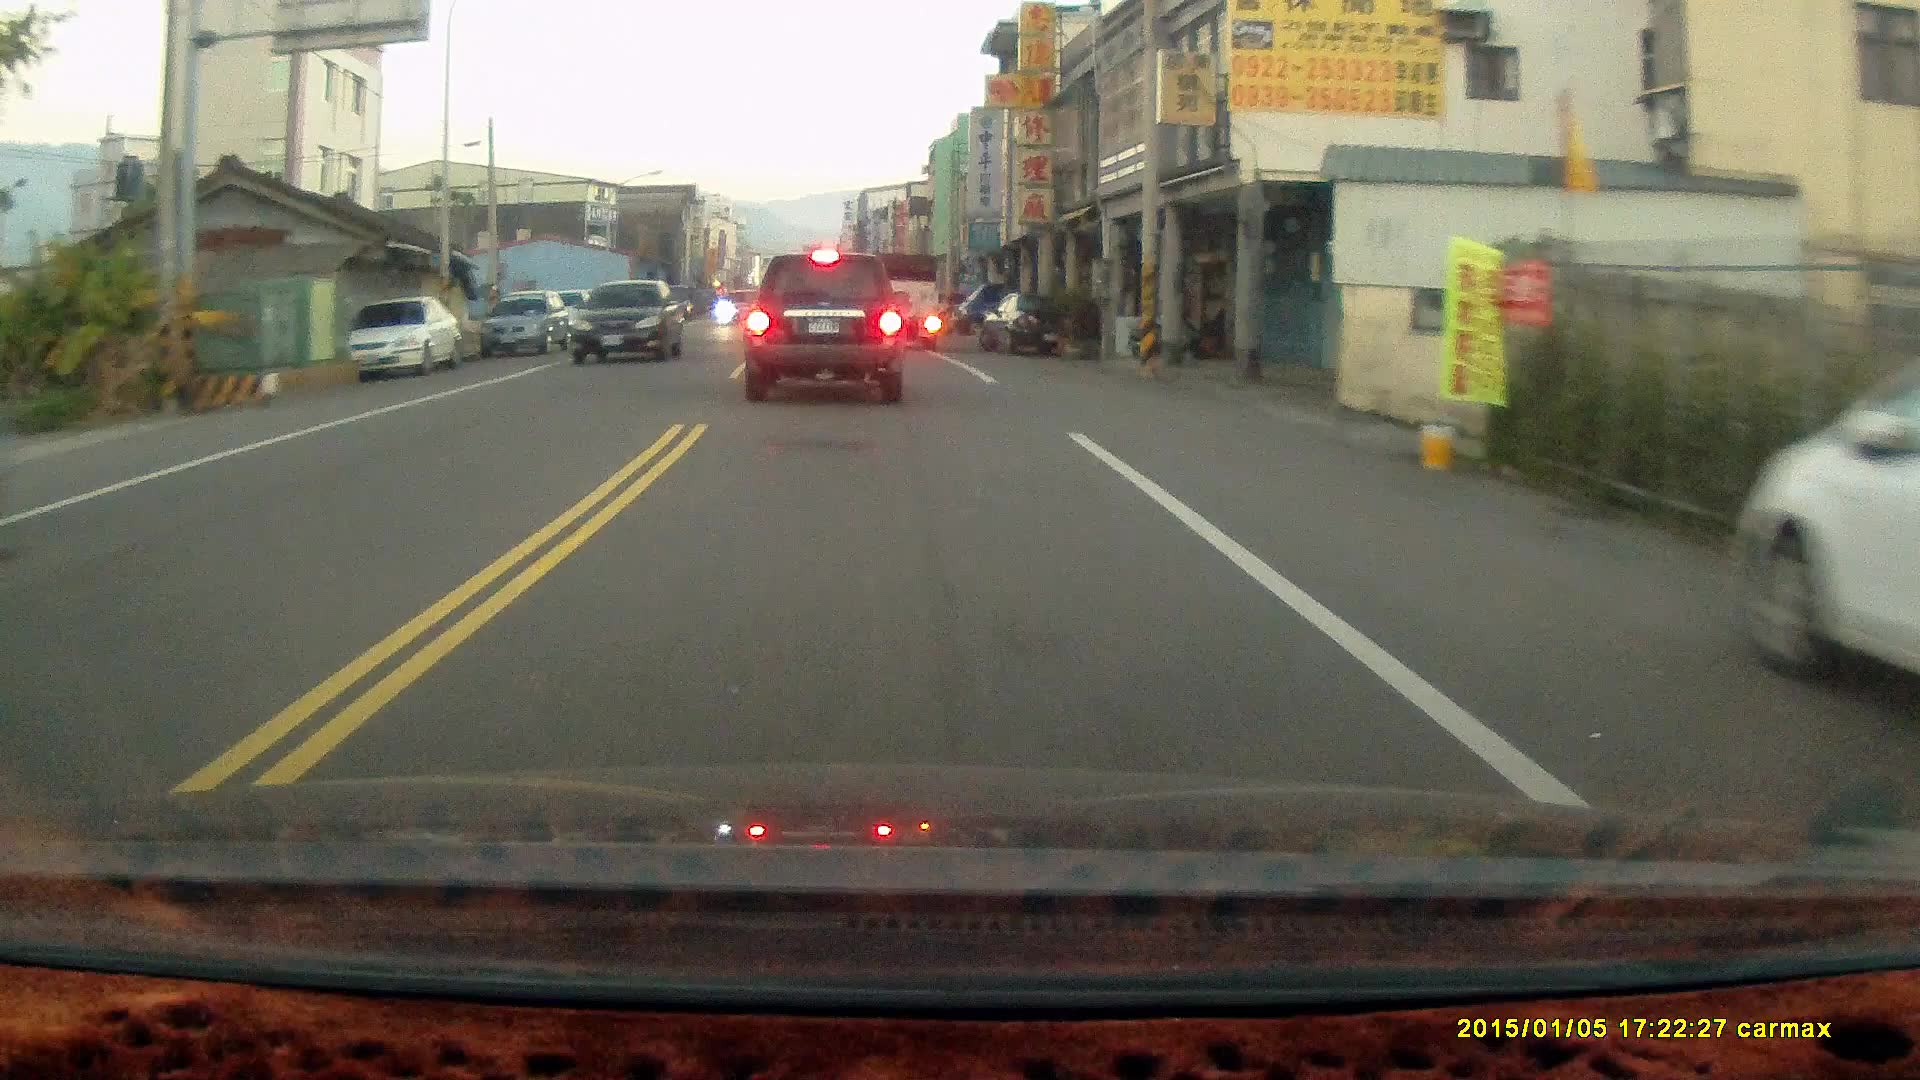vehicle: (1734, 313, 1920, 720), (746, 255, 910, 410), (345, 299, 464, 378), (578, 282, 686, 367), (865, 255, 944, 353), (484, 290, 576, 361)
